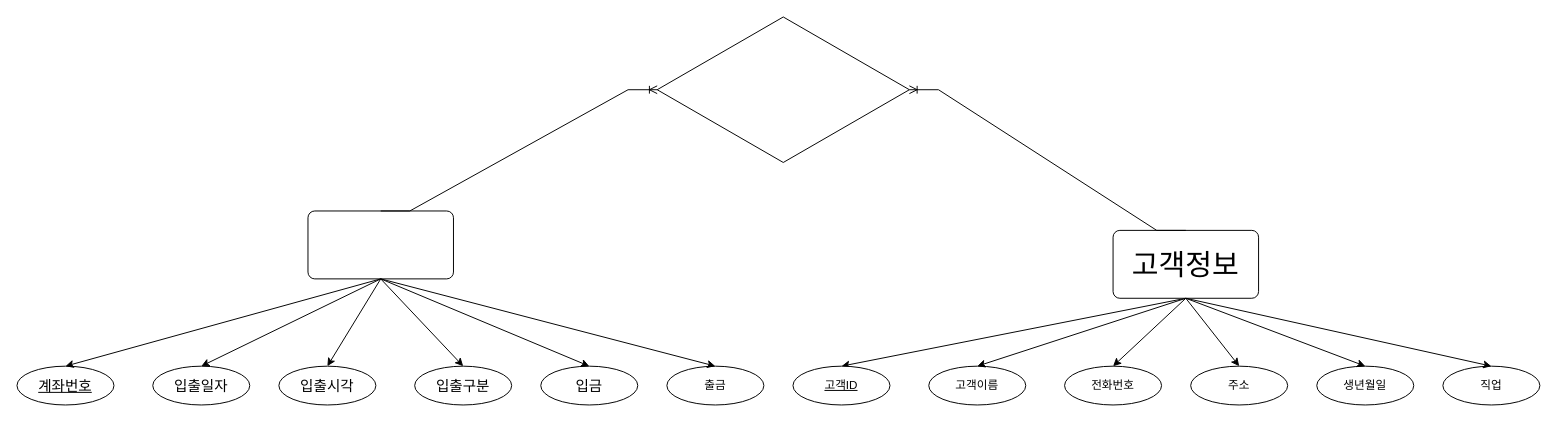
The diagram is 1557 pixels wide and 422 high, and some of its shapes have lost their labels. The centre of each missing label's shape, as x and y in pixels:
"거래내역" goes at (782,89).
"계좌정보" goes at (380,244).
